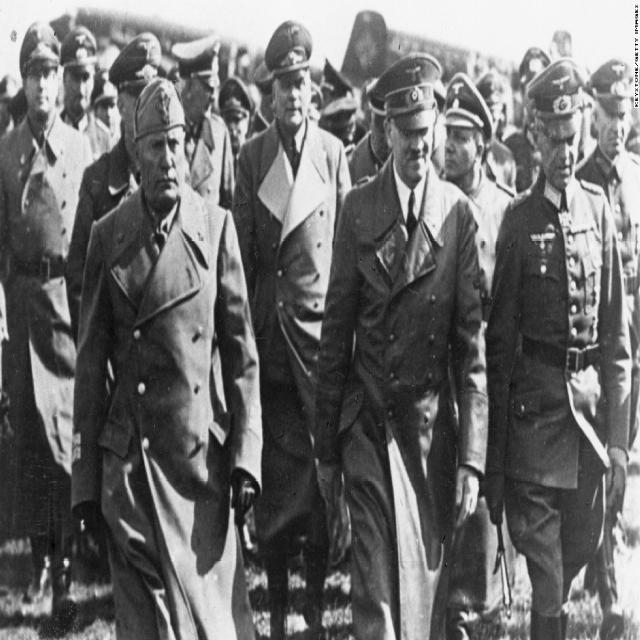body: (63, 74, 273, 639), (304, 40, 492, 639), (484, 54, 632, 640), (0, 37, 639, 168), (230, 18, 352, 640), (0, 20, 95, 625), (575, 59, 640, 634), (62, 30, 162, 360), (435, 69, 518, 305), (52, 24, 115, 164), (39, 12, 80, 37)
